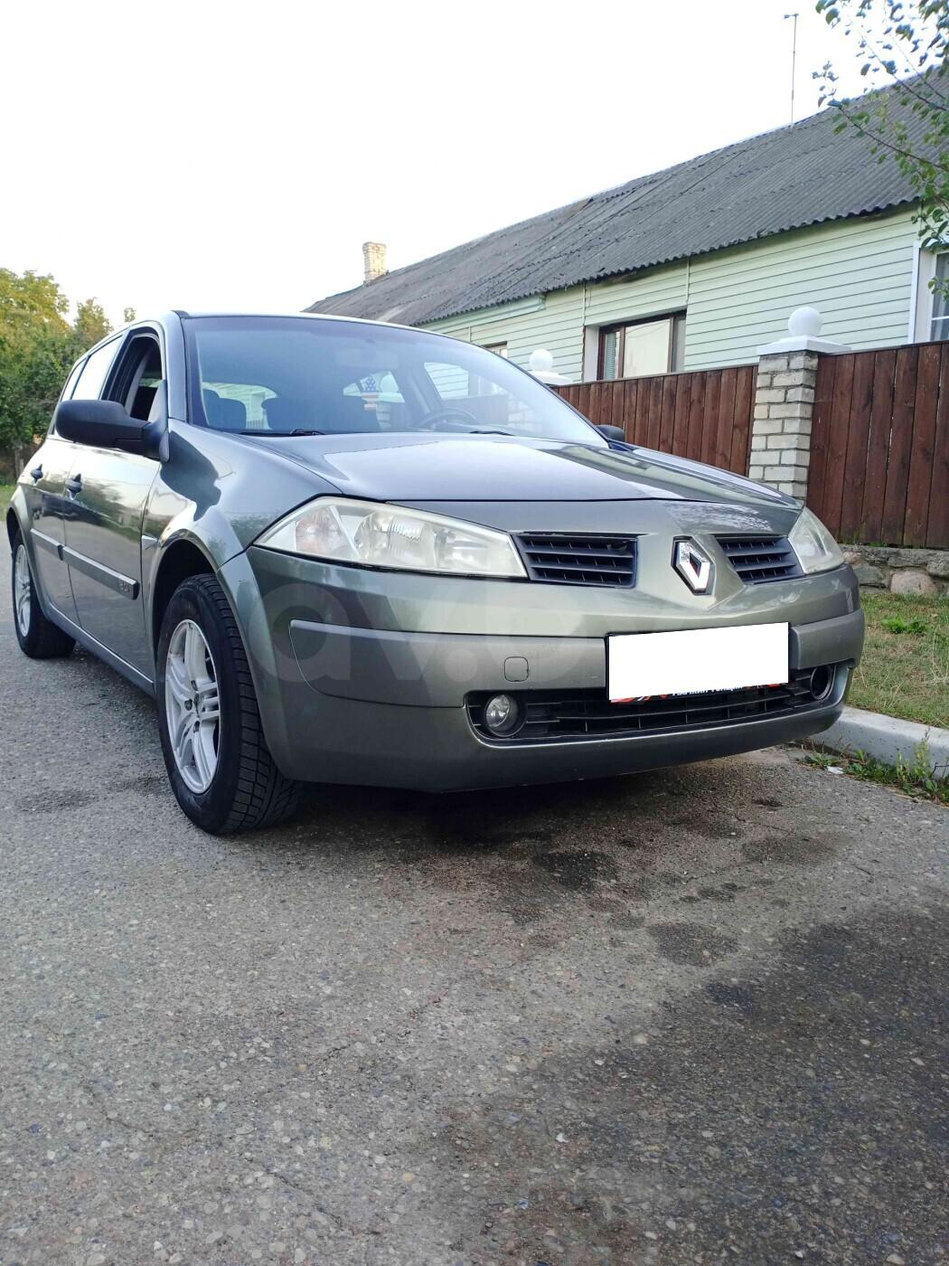Megane_2002-2006: (5, 298, 875, 846)
